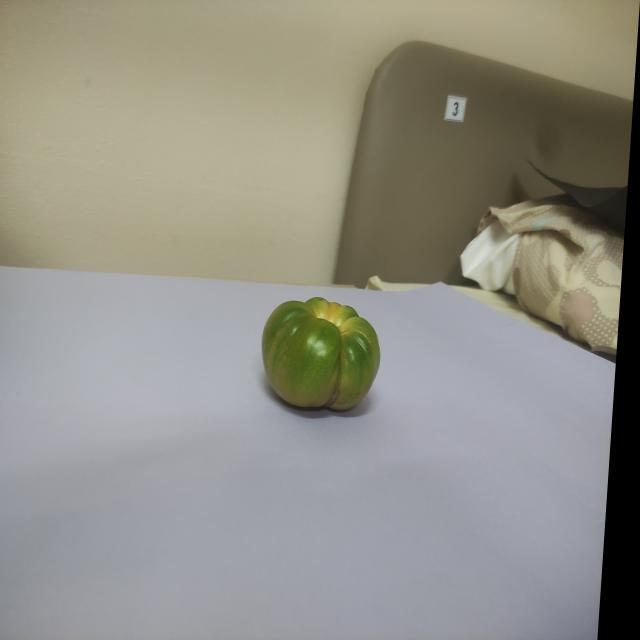yesil: (250, 276, 401, 418)
